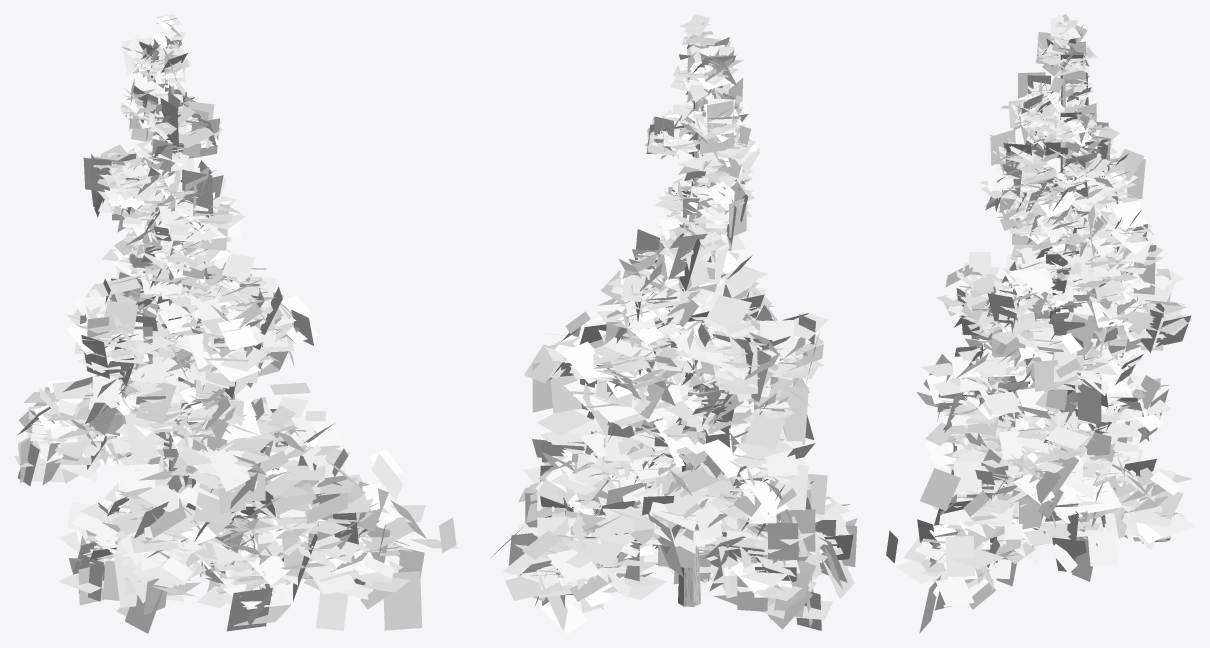
Rendered from IL3DN_style_Pine02_v2_seed17.fbx.
The picture shows the model from 3 angles, left to right: view 1: azimuth 30°, elevation 25°; view 2: azimuth 150°, elevation 25°; view 3: azimuth 270°, elevation 25°; orthographic projection. The views are drawn at different scales.
Visible parts, largest first — view 1: StylizedPine_Needles; view 2: StylizedPine_Needles, StylizedPine_Trunk; view 3: StylizedPine_Needles.
Part boxes in pixels (<box>): StylizedPine_Needles: <box>14,14,458,633</box>; StylizedPine_Needles: <box>491,14,857,633</box>; StylizedPine_Trunk: <box>599,100,752,606</box>; StylizedPine_Needles: <box>886,14,1195,633</box>.
Size of the model in its own units: 6.15 by 9.83 by 5.12.
Materials: 2 (2 with a texture image).
